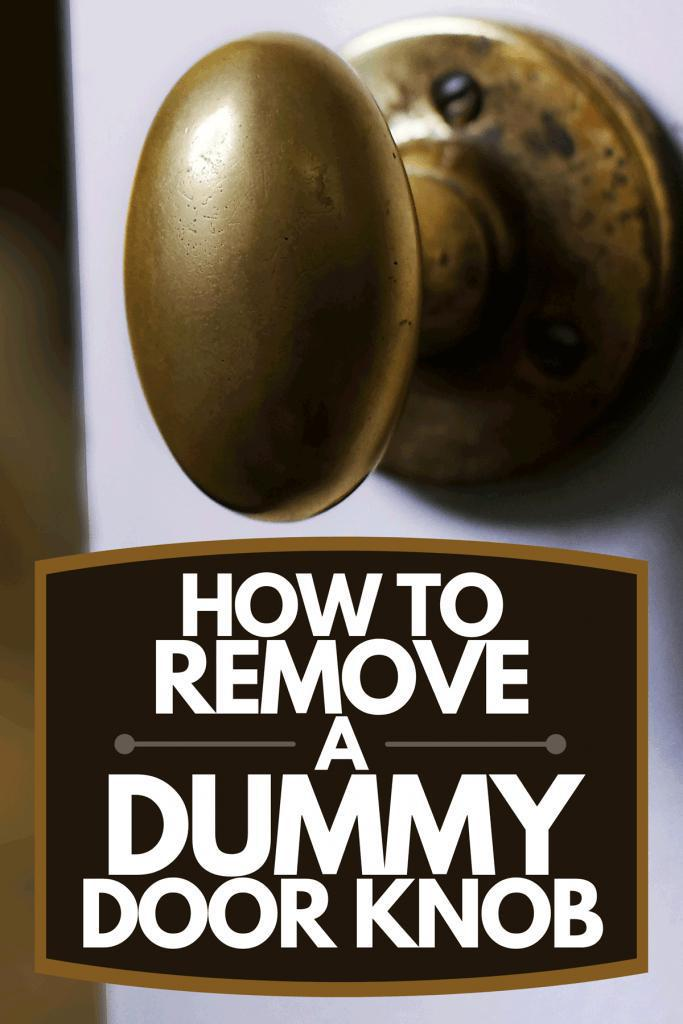doorhandle: (89, 20, 682, 530)
